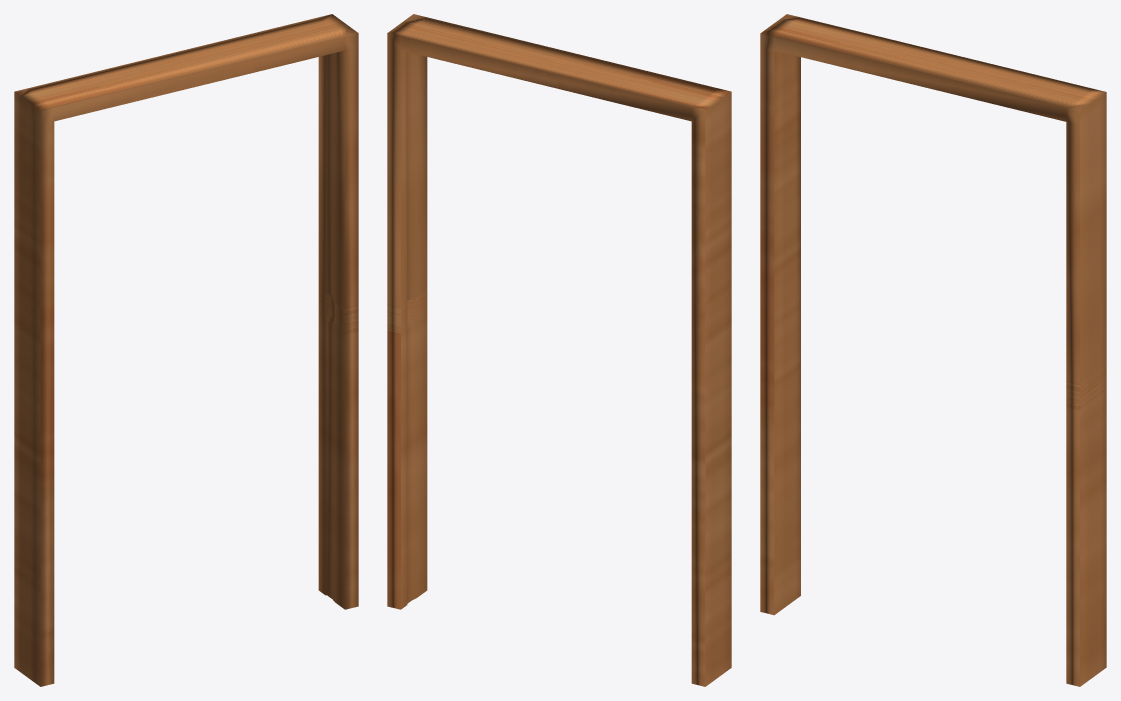
File: Frame.dae
3 renders of one model, left to right at view 1: azimuth 30°, elevation 25°; view 2: azimuth 150°, elevation 25°; view 3: azimuth 330°, elevation 25°, orthographic.
Parts seen in each view (by area): view 1: frame; view 2: frame; view 3: frame.
Boxes of the visible parts, box(x1,y1,x2,y2) form: frame: box(14, 14, 358, 686); frame: box(387, 14, 731, 686); frame: box(760, 14, 1106, 686).
Bounding box in the file's own units: 7.18 × 1.03 × 12.42.
1 material, 1 textured.
